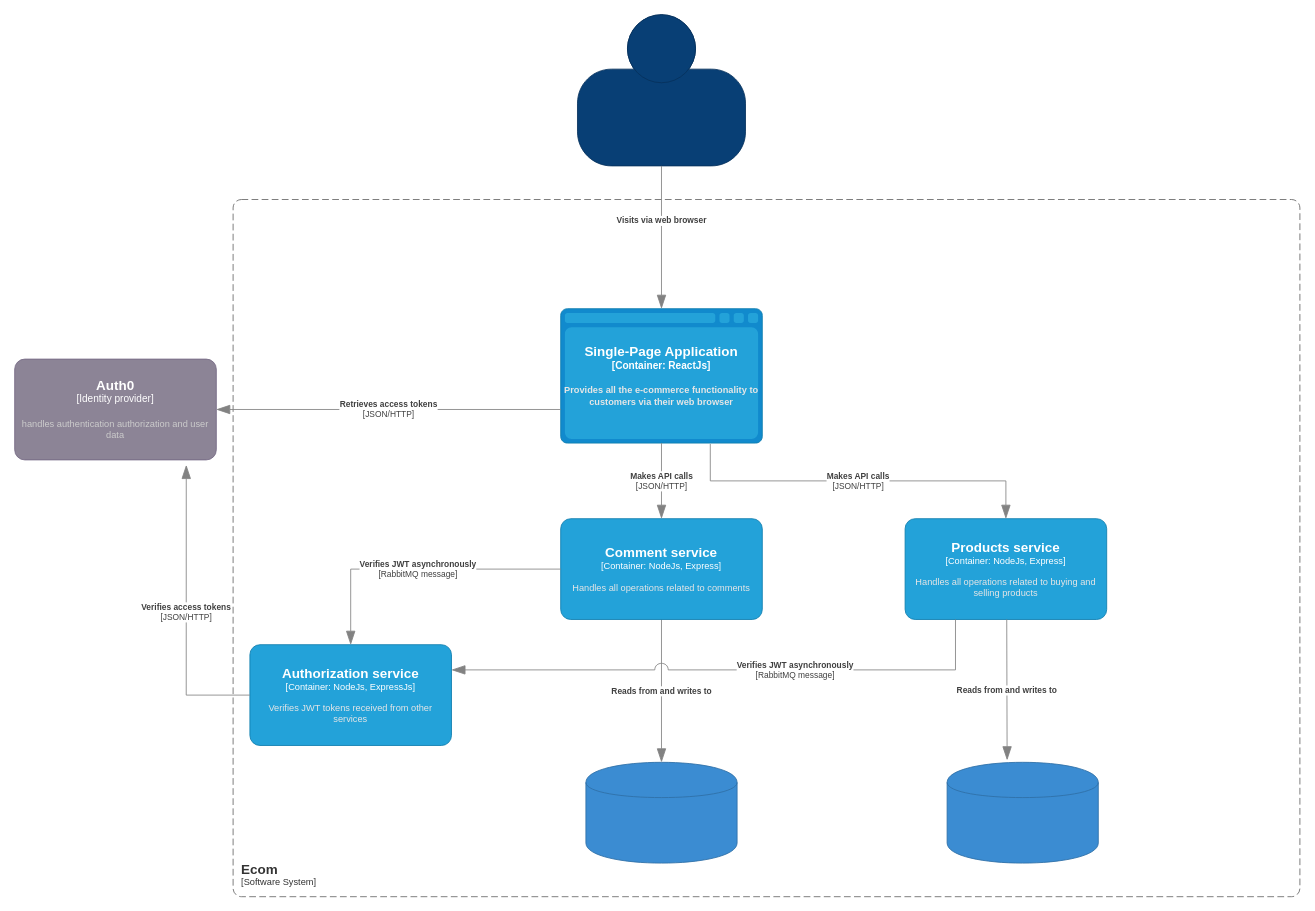
The diagram is 1315 pixels wide and 911 high, and some of its shapes have lost their labels. Each missing label, with the box of its shape:
Customer [Person] A customer of the web store: (577, 14, 746, 166)
MongoDB [ NoSQL database ] Stores information regarding comments: (585, 761, 737, 863)
MongoDB [ NoSQL database ] Stores information regarding products: (946, 761, 1098, 863)
